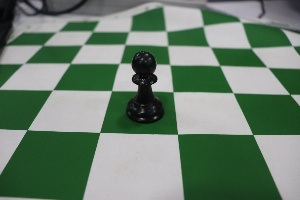black_pawn: (123, 32, 168, 127)
